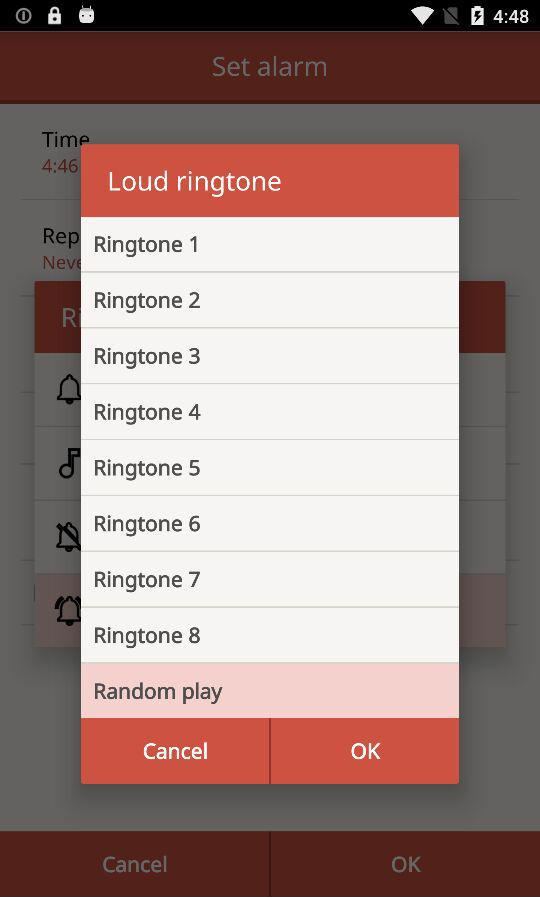Modal: (81, 144, 460, 784)
Text: (109, 170, 282, 199), (95, 681, 224, 705), (95, 514, 202, 538), (211, 56, 327, 78), (95, 291, 201, 315), (95, 347, 201, 371), (95, 458, 201, 482), (95, 403, 202, 426), (95, 626, 202, 649), (95, 570, 201, 593), (95, 236, 199, 259)
TextButton: (271, 831, 540, 897), (2, 832, 271, 897), (81, 718, 271, 784), (271, 718, 460, 784)
UpperTaskBar: (1, 1, 540, 33)
